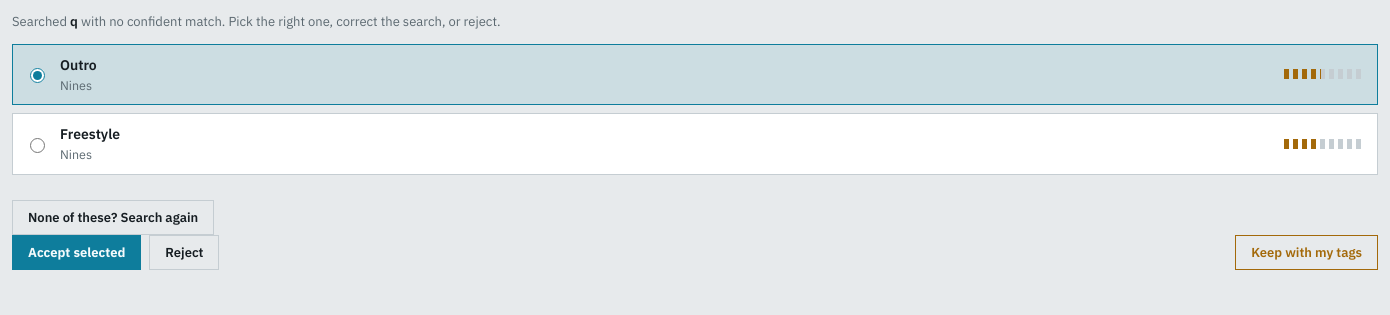
it: weak match — "which of these is it?" › surfaces a resolve failure and re-enables the buttons
Click the button "Accept selected" at (77, 252), box [12,235,141,270]
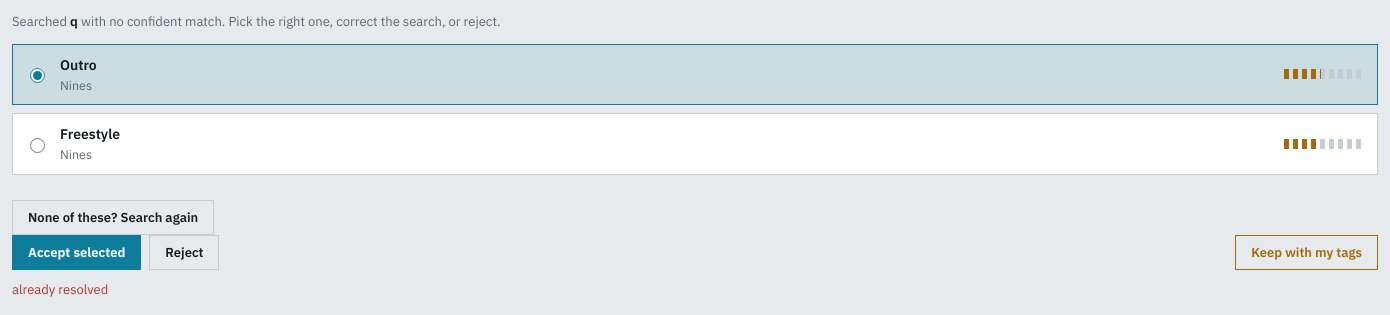
Now the message reads "already resolved", box [12,281,108,298]
